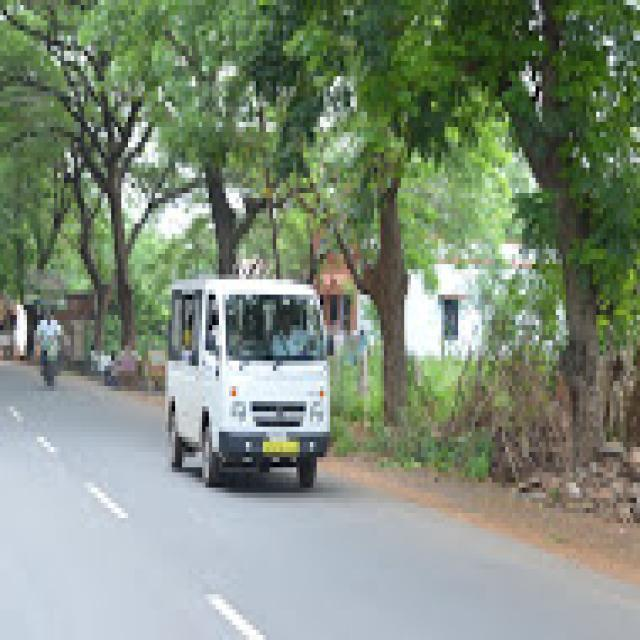car_front: (158, 270, 336, 496)
